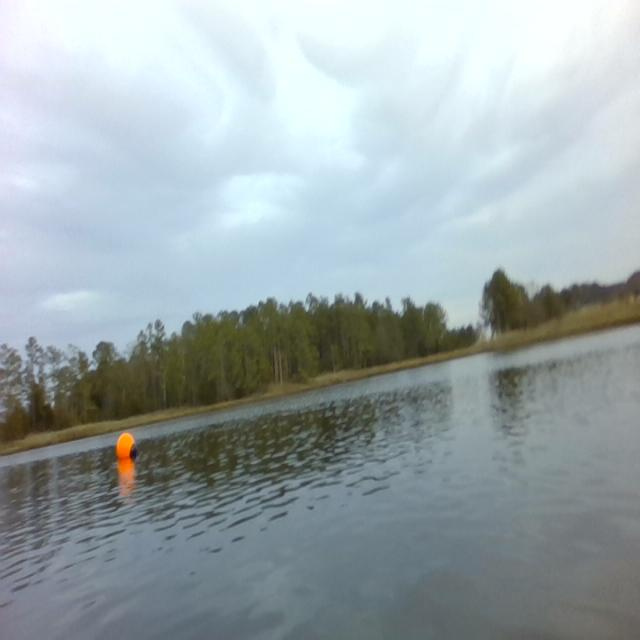Buoy: (113, 426, 141, 468)
